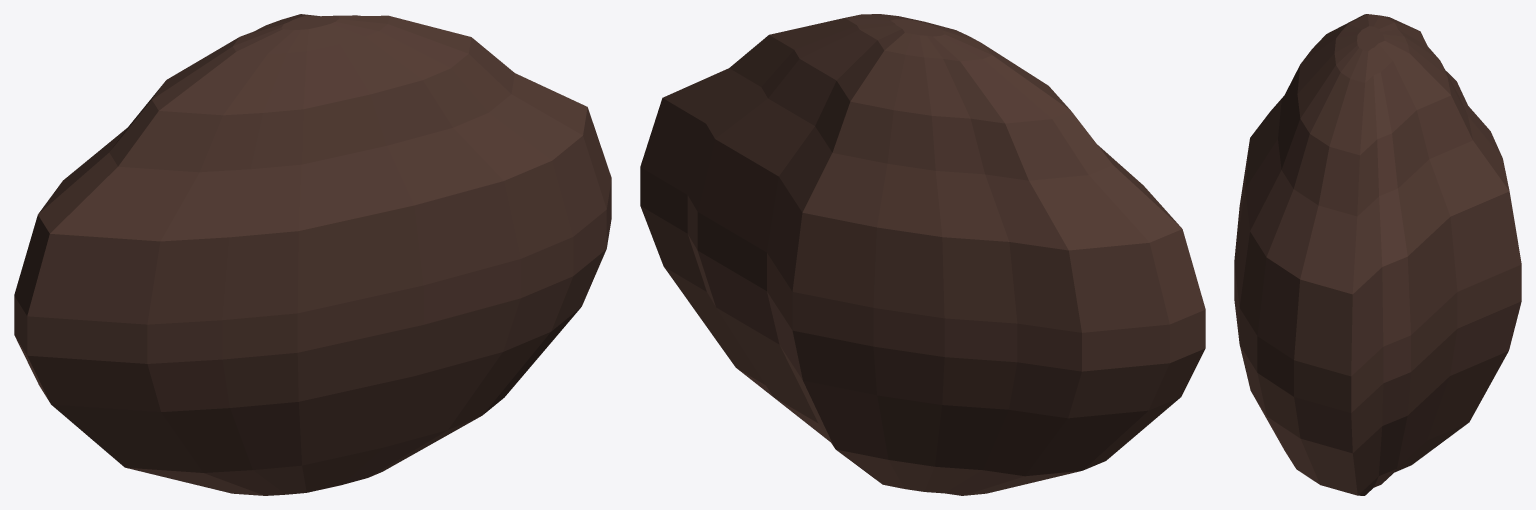
File: floating rock 1.glb
3 views of the same model, side by side, from view 1: azimuth 30°, elevation 25°; view 2: azimuth 150°, elevation 25°; view 3: azimuth 270°, elevation 25° (orthographic). The views are drawn at different scales.
Parts seen in each view (by area): view 1: Vert, Vert.001; view 2: Vert, Vert.001; view 3: Vert, Vert.001.
Boxes of the visible parts, x1,y1,x2,y2 form: Vert: (14,107,611,495); Vert.001: (38,14,587,241); Vert: (640,98,1205,495); Vert.001: (662,14,1181,250); Vert: (1234,139,1521,495); Vert.001: (1245,14,1509,294).
Size of the model in its own units: 11.42 by 8.49 by 5.26.
